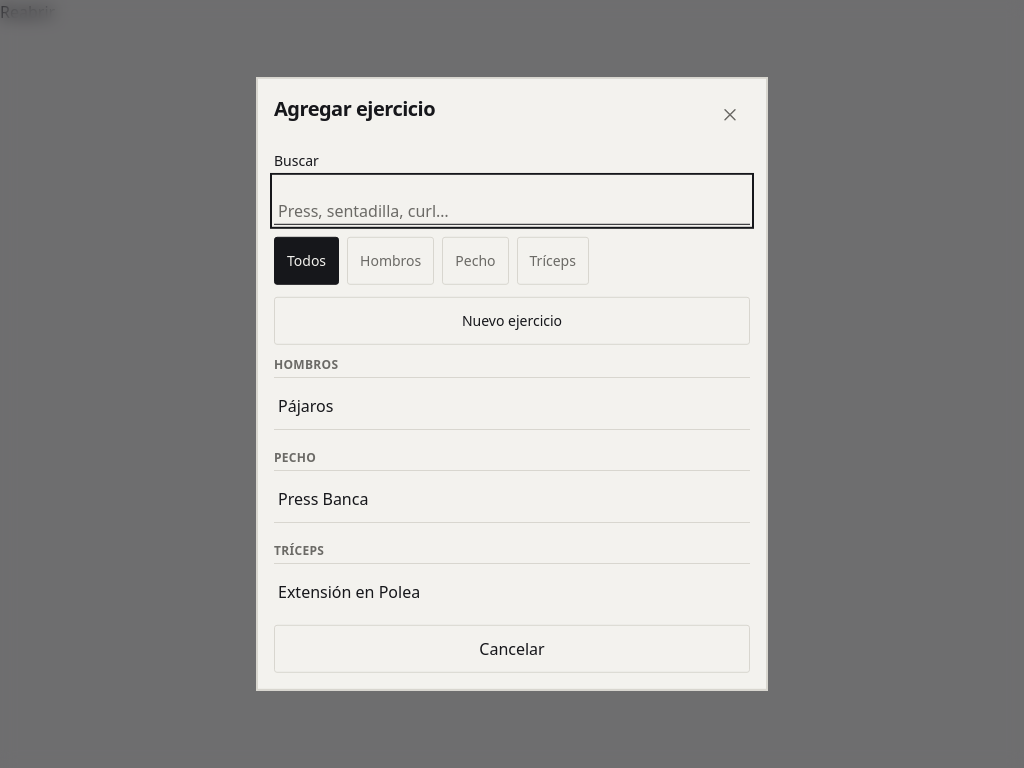
Test case: ExercisePickerDialog › says so when the search matches nothing
The width and height of the screenshot is (1024, 768).
Type "zzzzzz" into the field labelled "Buscar" at (512, 201), box [274,177,750,225]
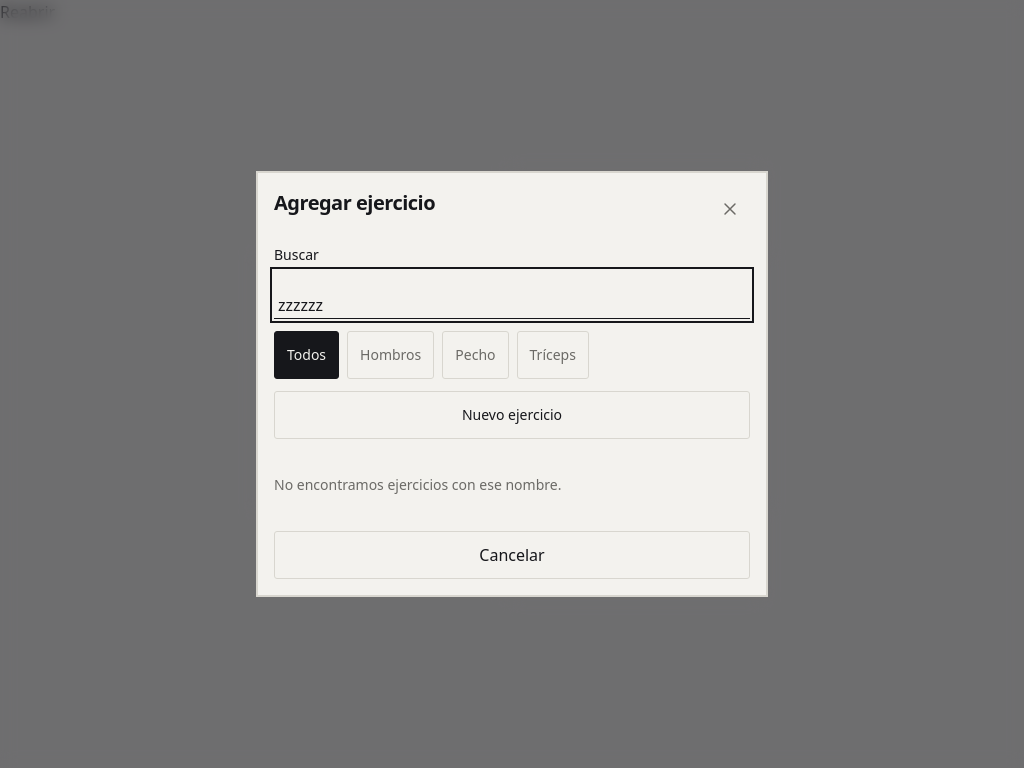
Expected: the text "No encontramos ejercicios con ese nombre." is shown, [274,475,561,494]
